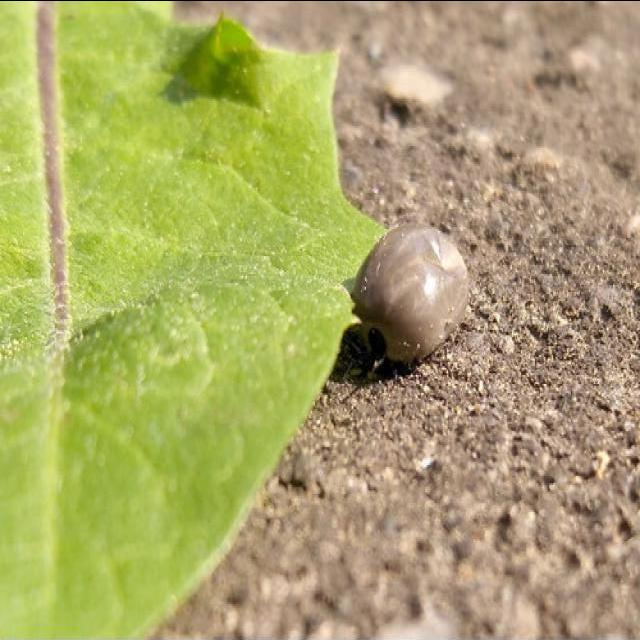Ixodes Ricinus-F-Fed: (352, 227, 472, 370)
